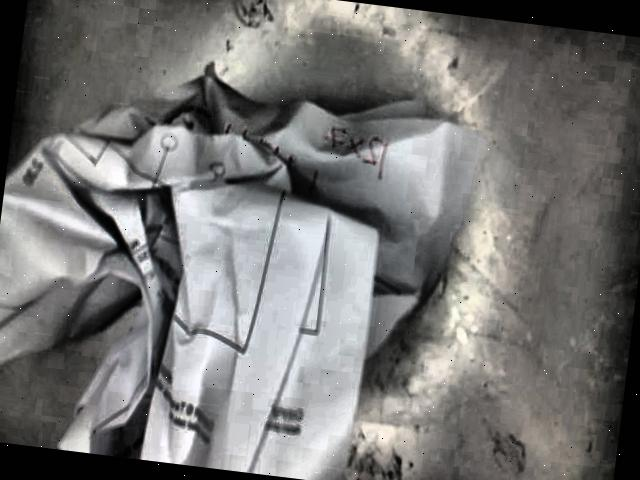Paper: (0, 63, 487, 480)
